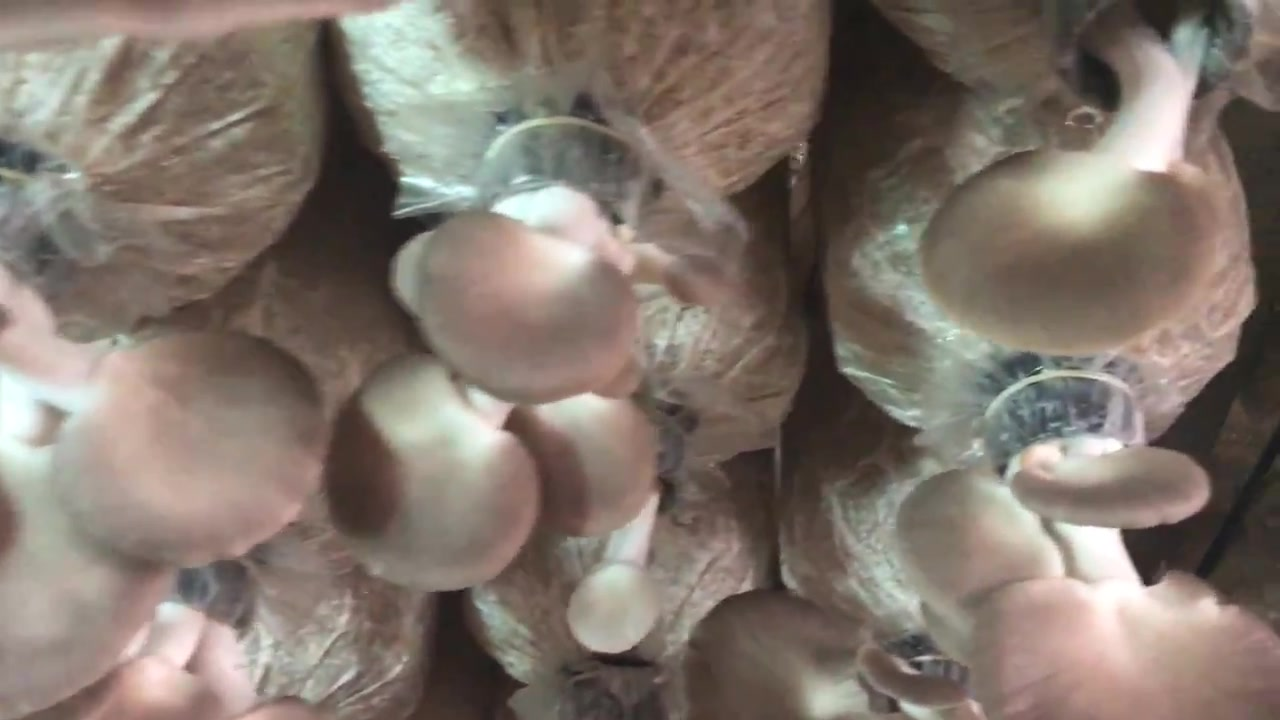nam: (684, 377, 1280, 718), (1, 159, 324, 717), (325, 123, 657, 592), (922, 1, 1251, 352), (33, 562, 323, 720), (567, 416, 699, 651)
